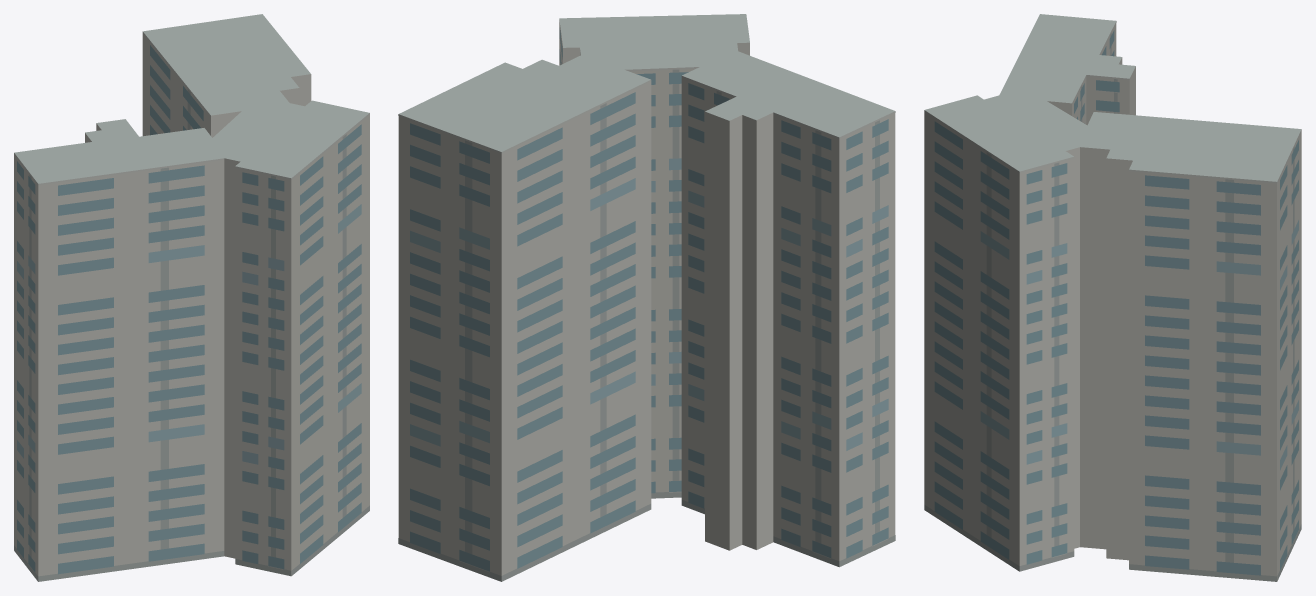
Rendered from residential-7dce518f-bde7-4b5e-bfb9-ff87f754b69a.glb.
The picture shows the model from 3 angles, left to right: view 1: azimuth 30°, elevation 25°; view 2: azimuth 150°, elevation 25°; view 3: azimuth 270°, elevation 25°; orthographic projection. The views are drawn at different scales.
Parts seen in each view (by area): view 1: residential-7dce518f-bde7-4b5e-bfb9-ff87f754b69a.tmp; view 2: residential-7dce518f-bde7-4b5e-bfb9-ff87f754b69a.tmp; view 3: residential-7dce518f-bde7-4b5e-bfb9-ff87f754b69a.tmp.
Boxes of the visible parts, x1=… form: residential-7dce518f-bde7-4b5e-bfb9-ff87f754b69a.tmp: x1=14, y1=14, x2=369, y2=581; residential-7dce518f-bde7-4b5e-bfb9-ff87f754b69a.tmp: x1=398, y1=14, x2=895, y2=581; residential-7dce518f-bde7-4b5e-bfb9-ff87f754b69a.tmp: x1=924, y1=14, x2=1301, y2=581.
Bounding box in the file's own units: 53.1 × 59 × 50.44.
